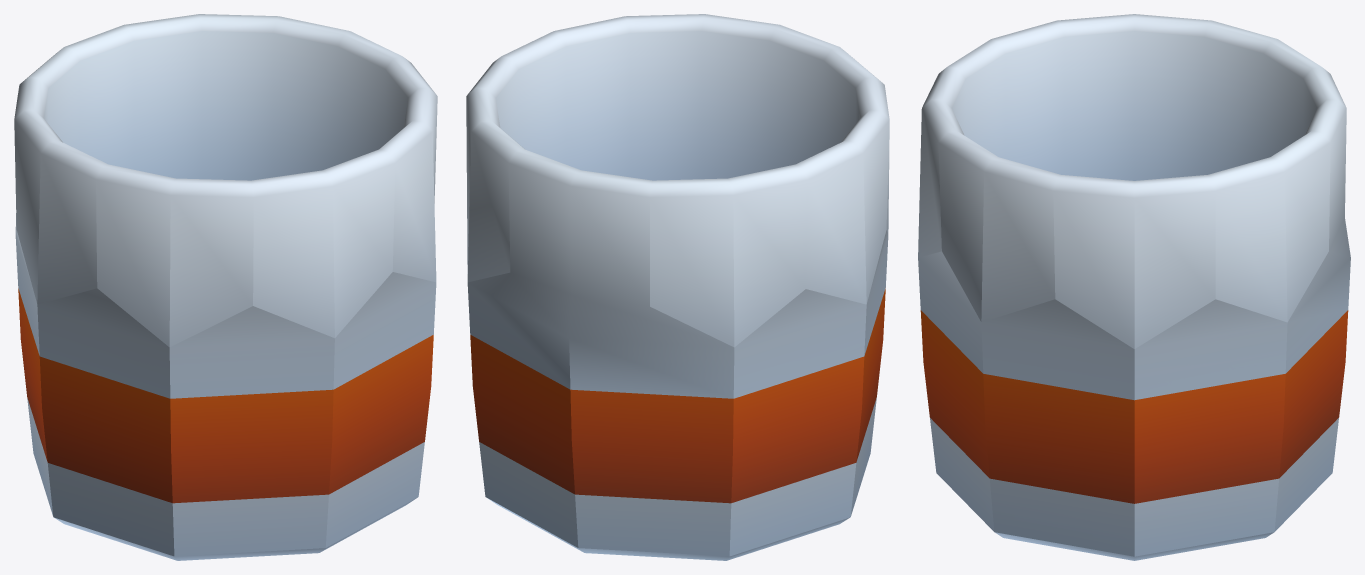
Rendered from cocktail_004.fbx.
3 renders of one model, left to right at view 1: azimuth 30°, elevation 25°; view 2: azimuth 150°, elevation 25°; view 3: azimuth 270°, elevation 25°, orthographic.
Parts seen in each view (by area): view 1: cocktail_004; view 2: cocktail_004; view 3: cocktail_004.
Boxes of the visible parts, <box> form: cocktail_004: <box>14,14,437,560</box>; cocktail_004: <box>466,14,889,560</box>; cocktail_004: <box>918,14,1350,560</box>.
Bounding box in the file's own units: 9.31 × 9.31 × 9.08.
